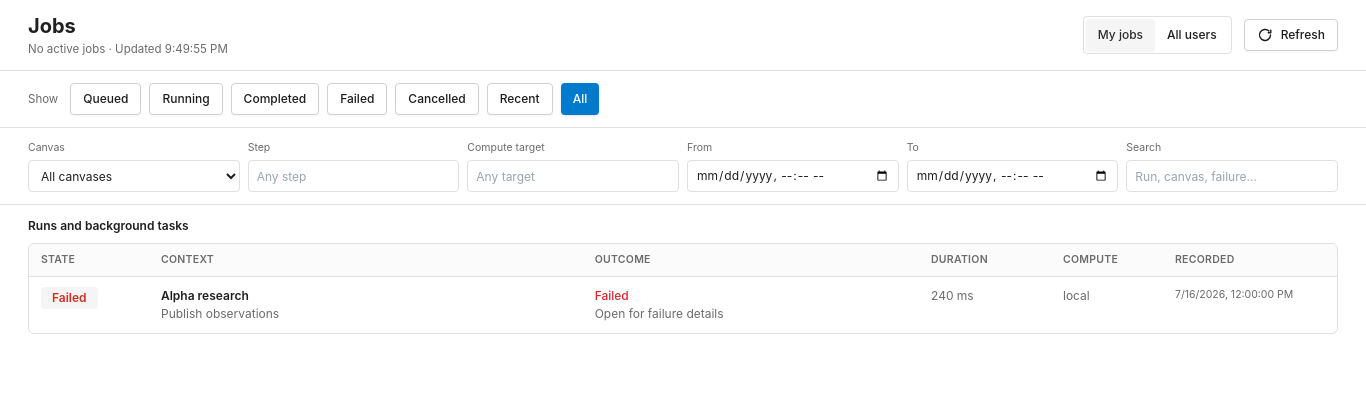
JobsView › defaults to my jobs and can include visible jobs from all users
Expected: the text "Alpha research" is shown, [161,288,249,303]
Click the button with test id "jobs-scope-all" at (1192,35), box [1155,19,1229,51]
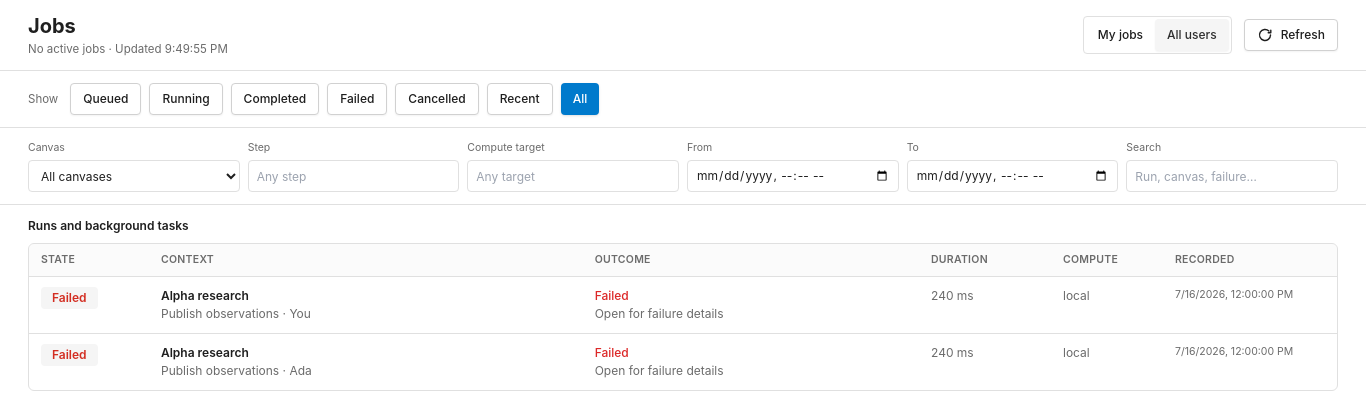
Expected: the text "Publish observations · Ada" is shown, [161,363,312,378]
